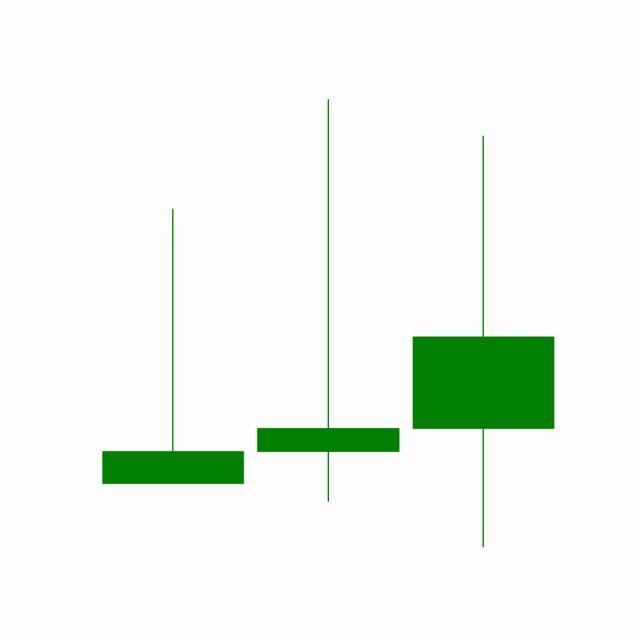Spinning Top: (250, 95, 407, 507)
